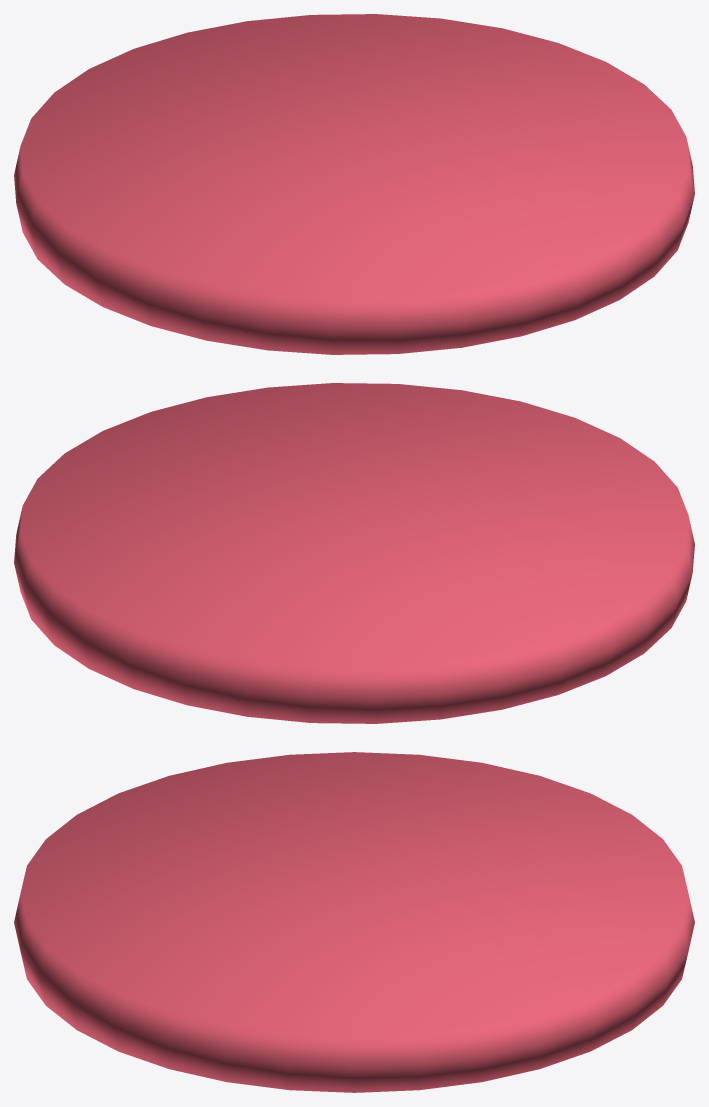
File: UncookedPatty.fbx
3 views of the same model, one above another, from view 1: azimuth 30°, elevation 25°; view 2: azimuth 150°, elevation 25°; view 3: azimuth 270°, elevation 25° (orthographic).
Visible parts, largest first — view 1: Sphere.004; view 2: Sphere.004; view 3: Sphere.004.
Part boxes in pixels (bbox=[...]): Sphere.004: bbox=[14, 14, 694, 354]; Sphere.004: bbox=[14, 383, 694, 723]; Sphere.004: bbox=[14, 752, 694, 1092].
Size of the model in its own units: 211 by 20.02 by 211.
